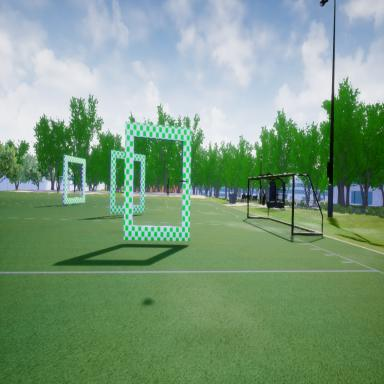gate: (124, 118, 192, 250), (107, 144, 147, 218), (60, 147, 87, 211)
